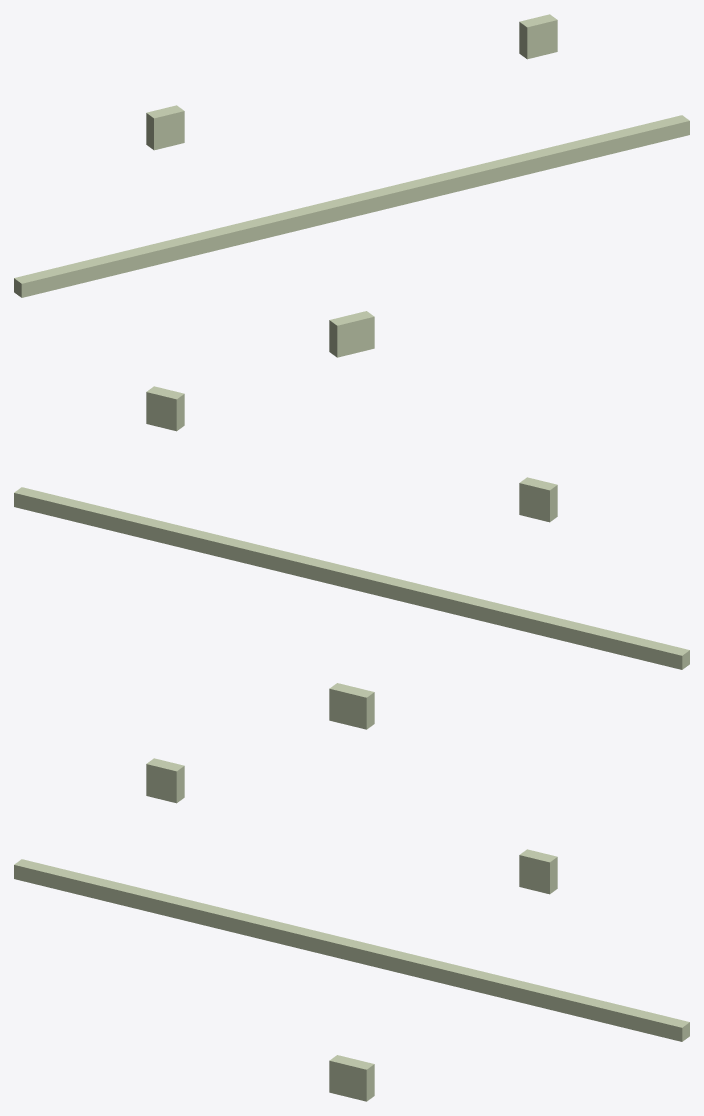
Rendered from furniture_signal_cantilever_diagonal_brace_pair.glb.
3 renders of one model, top to bottom at view 1: azimuth 30°, elevation 25°; view 2: azimuth 150°, elevation 25°; view 3: azimuth 330°, elevation 25°, orthographic.
Visible parts, largest first — view 1: brace_left, brace_right, mid_tie, clamp_left_upper, clamp_right_upper, clamp_left_lower, clamp_right_lower; view 2: brace_right, brace_left, clamp_left_upper, clamp_right_upper, clamp_left_lower, mid_tie; view 3: brace_left, brace_right, clamp_right_upper, clamp_left_upper, clamp_right_lower, mid_tie, clamp_left_lower.
Part boxes in pixels (bbox=[...]): brace_left: bbox=[14, 161, 499, 297]; brace_right: bbox=[205, 115, 689, 250]; mid_tie: bbox=[263, 173, 452, 235]; clamp_left_upper: bbox=[146, 105, 184, 150]; clamp_right_upper: bbox=[519, 14, 557, 59]; clamp_left_lower: bbox=[329, 313, 367, 357]; clamp_right_lower: bbox=[336, 311, 374, 349]; brace_right: bbox=[14, 487, 499, 623]; brace_left: bbox=[204, 533, 689, 669]; clamp_left_upper: bbox=[519, 477, 557, 522]; clamp_right_upper: bbox=[146, 386, 184, 431]; clamp_left_lower: bbox=[336, 685, 374, 729]; mid_tie: bbox=[251, 545, 445, 592]; brace_left: bbox=[14, 859, 499, 995]; brace_right: bbox=[204, 905, 689, 1041]; clamp_right_upper: bbox=[519, 849, 557, 894]; clamp_left_upper: bbox=[146, 758, 184, 803]; clamp_right_lower: bbox=[336, 1058, 374, 1101]; mid_tie: bbox=[251, 917, 447, 964]; clamp_left_lower: bbox=[329, 1055, 367, 1097].
Size of the model in its own units: 3.94 by 1.6 by 0.08.
